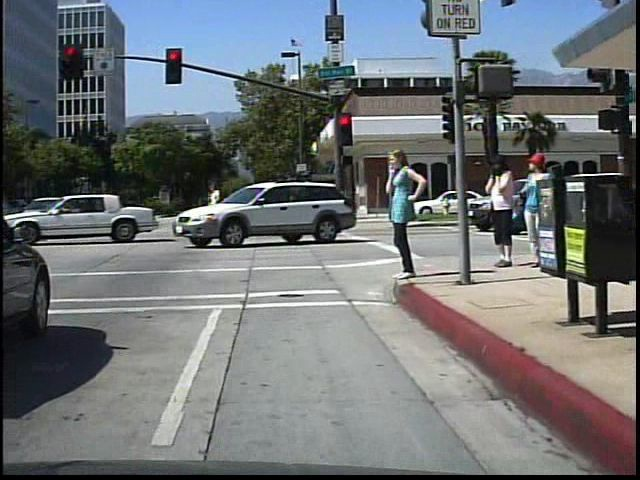person: (381, 146, 427, 287), (515, 146, 555, 270), (476, 148, 517, 268)
